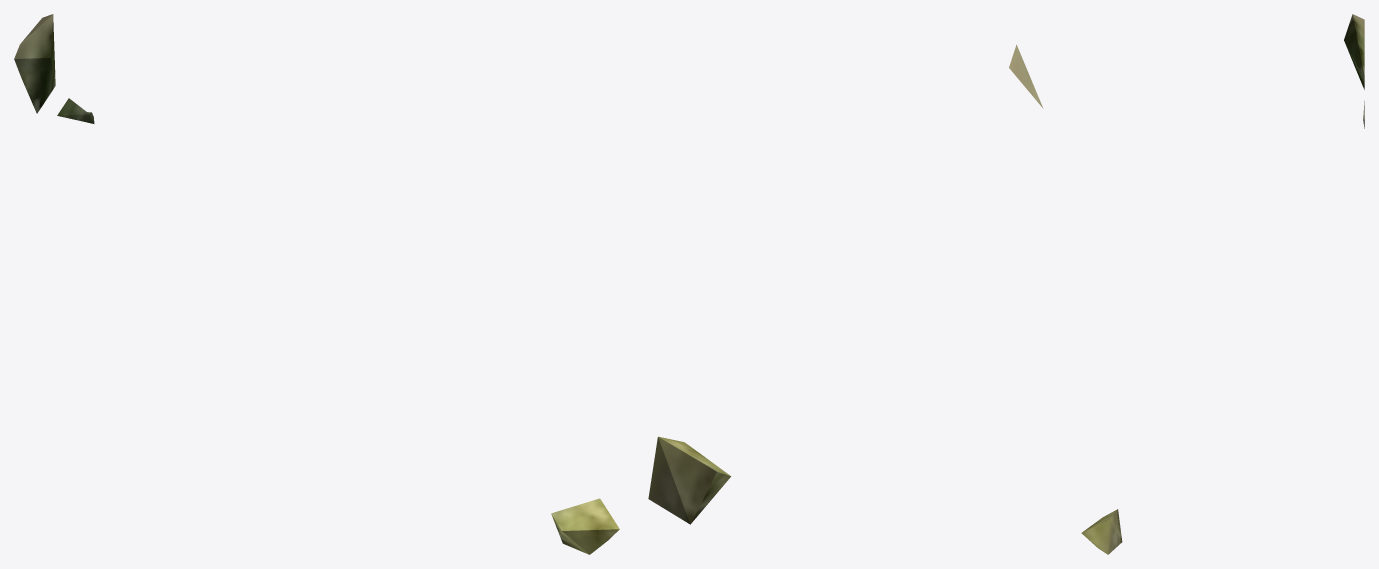
3 renders of one model, left to right at view 1: azimuth 30°, elevation 25°; view 2: azimuth 150°, elevation 25°; view 3: azimuth 270°, elevation 25°, orthographic. The views are drawn at different scales.
Size of the model in its own units: 0.98 by 1.12 by 0.7284.
1 material, 1 textured.
